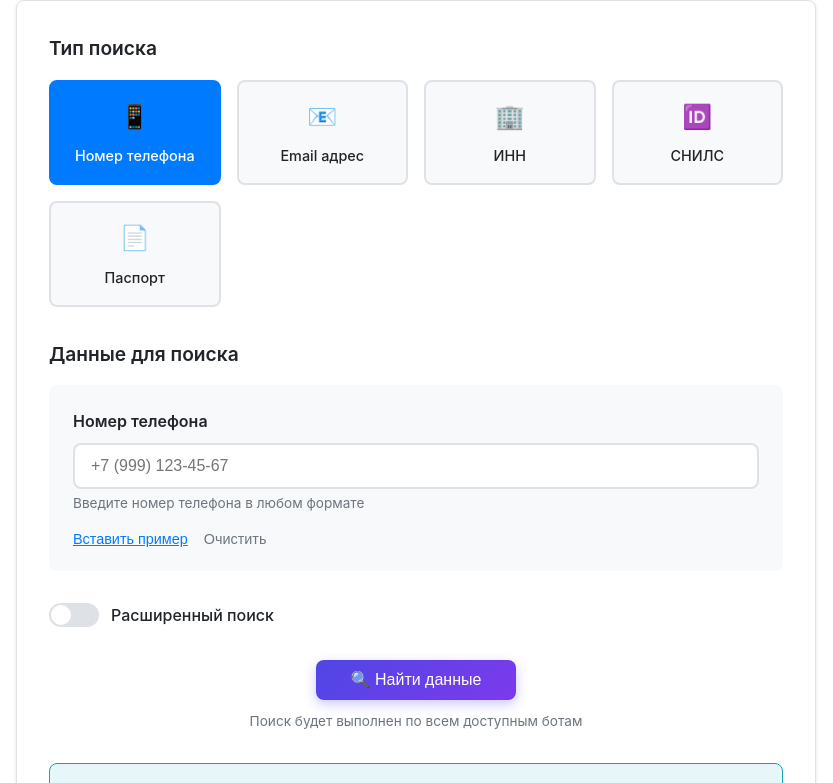
Test case: SearchForm › shows example value when example button is clicked
Click the button "Вставить пример" at [130, 539], box [73,531,188,547]
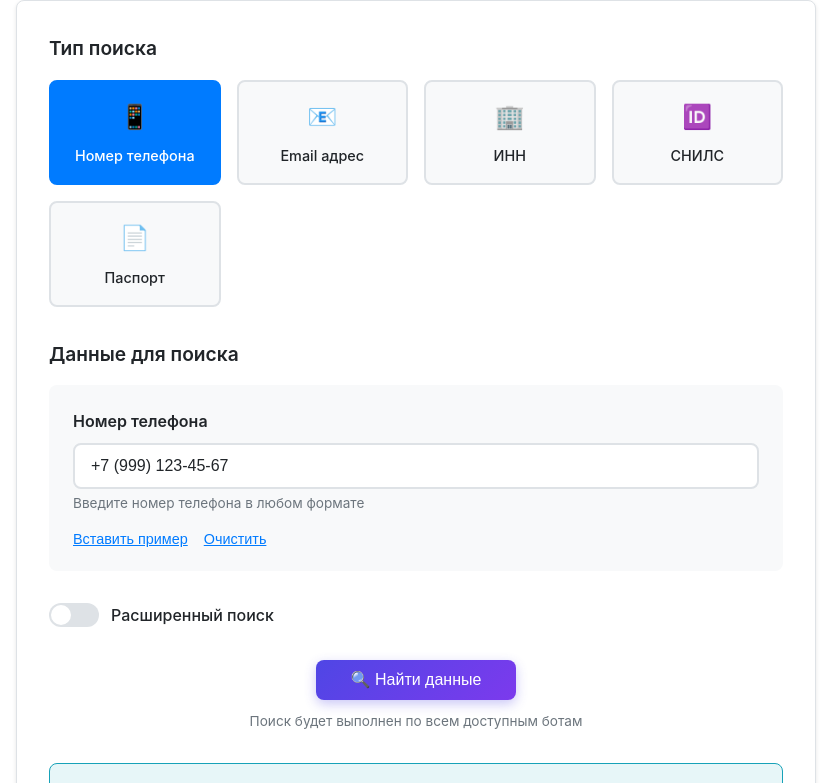
expect the field with placeholder "+7 (999) 123-45-67" holds "+7 (999) 123-45-67": met, box [73,443,759,489]
